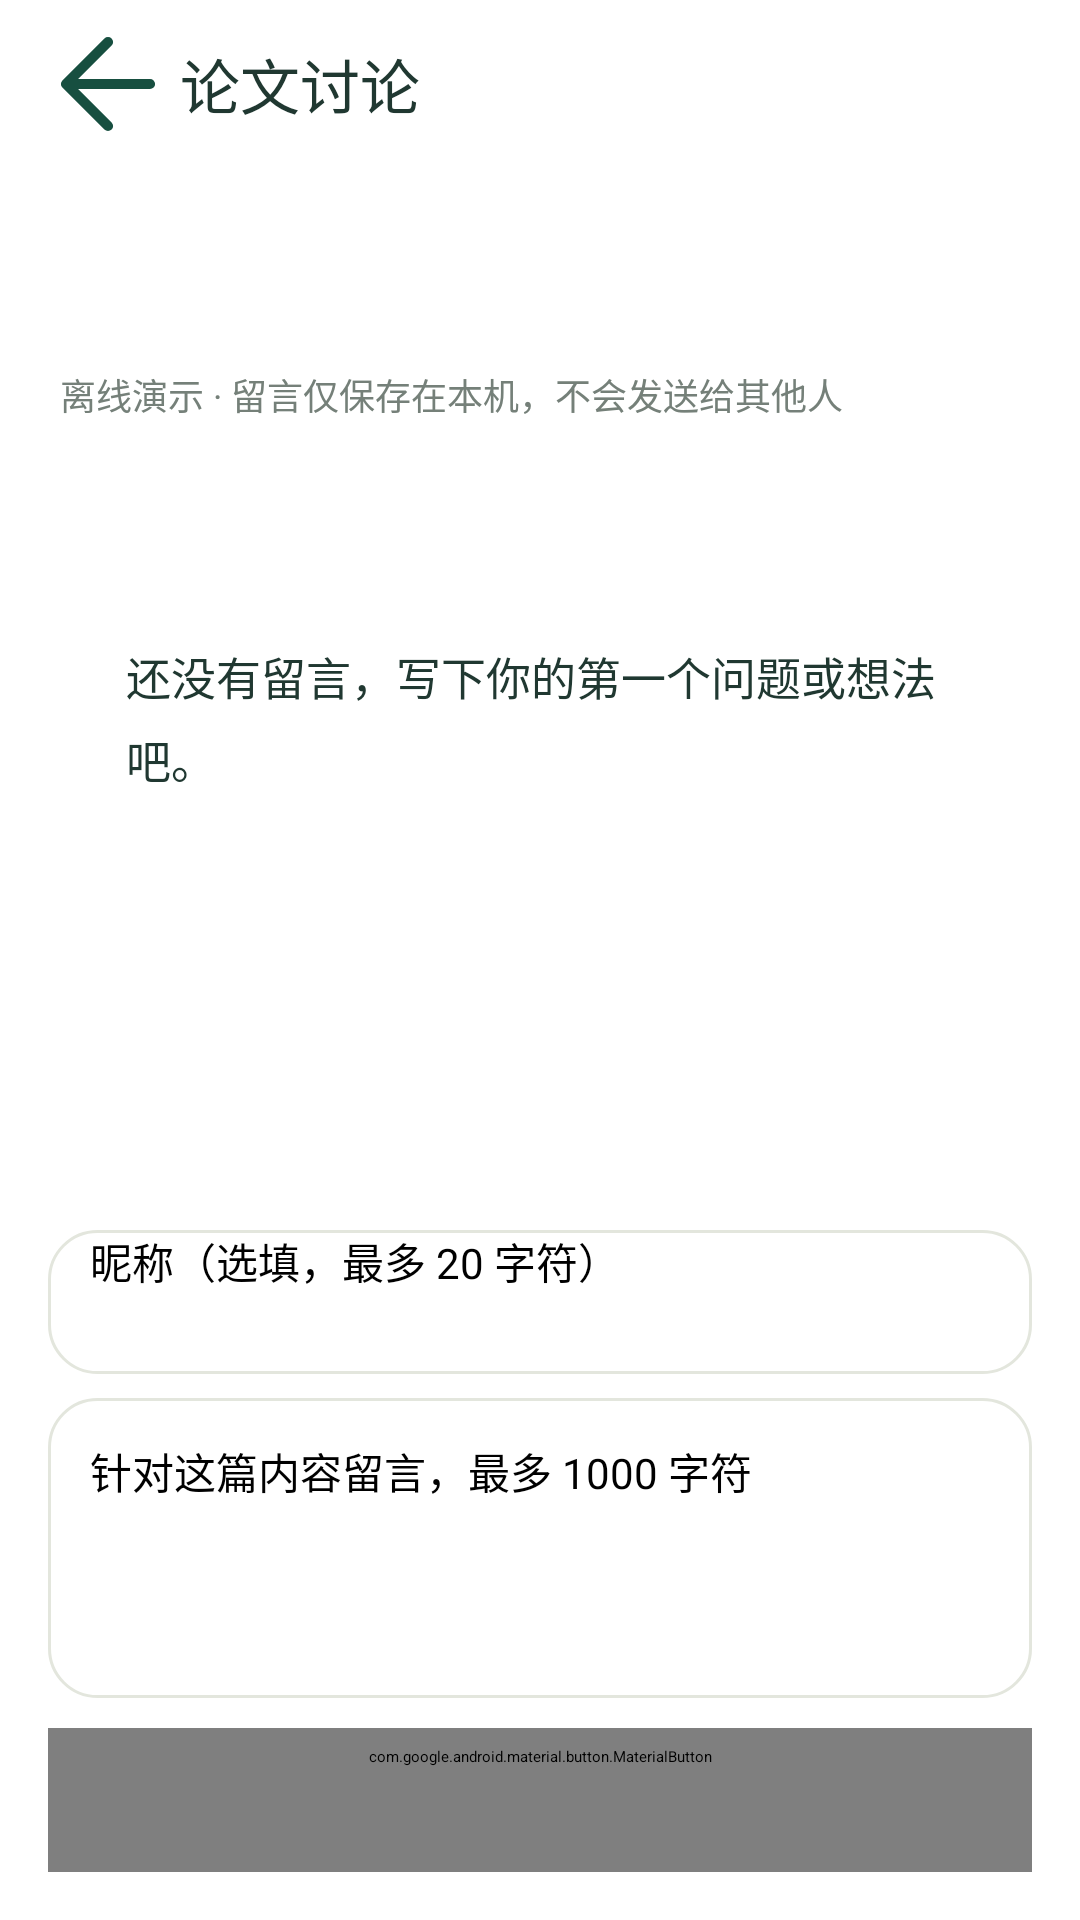

Where icons sit on this 1080px x 1920px app screen, as bbox=[x1, y1, x2, y2]:
返回: bbox=[61, 37, 155, 131]
